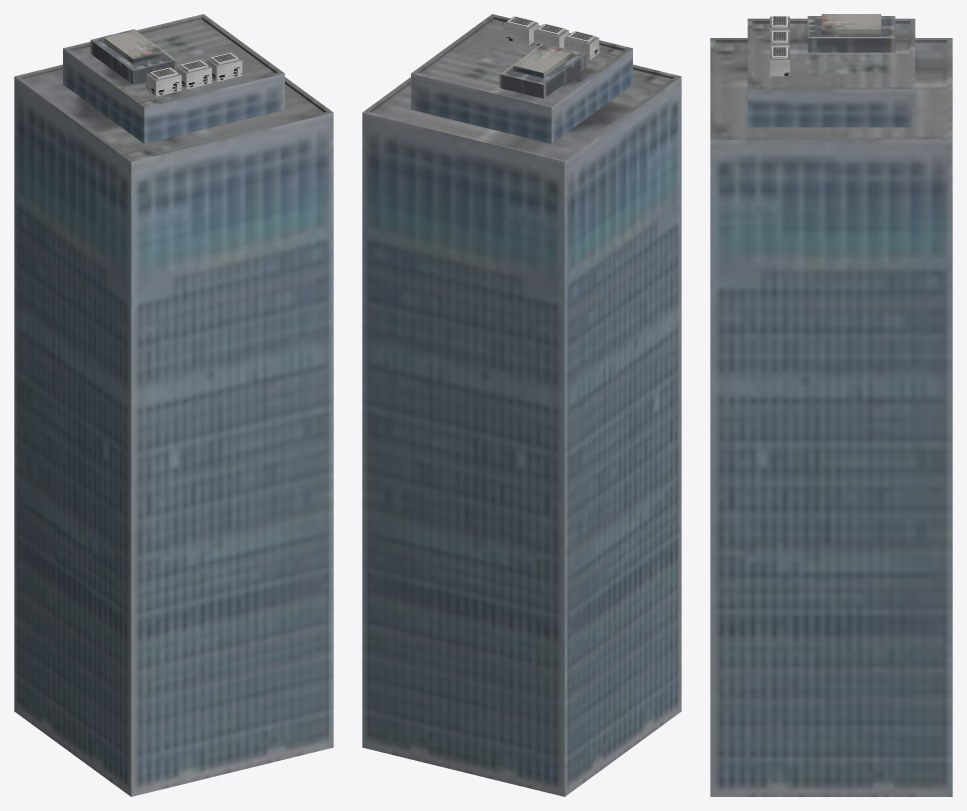
3 views of the same model, side by side, from view 1: azimuth 30°, elevation 25°; view 2: azimuth 150°, elevation 25°; view 3: azimuth 270°, elevation 25° (orthographic). The views are drawn at different scales.
Bounding box in the file's own units: 0.328 × 1.06 × 0.328.
1 material, 1 textured.
